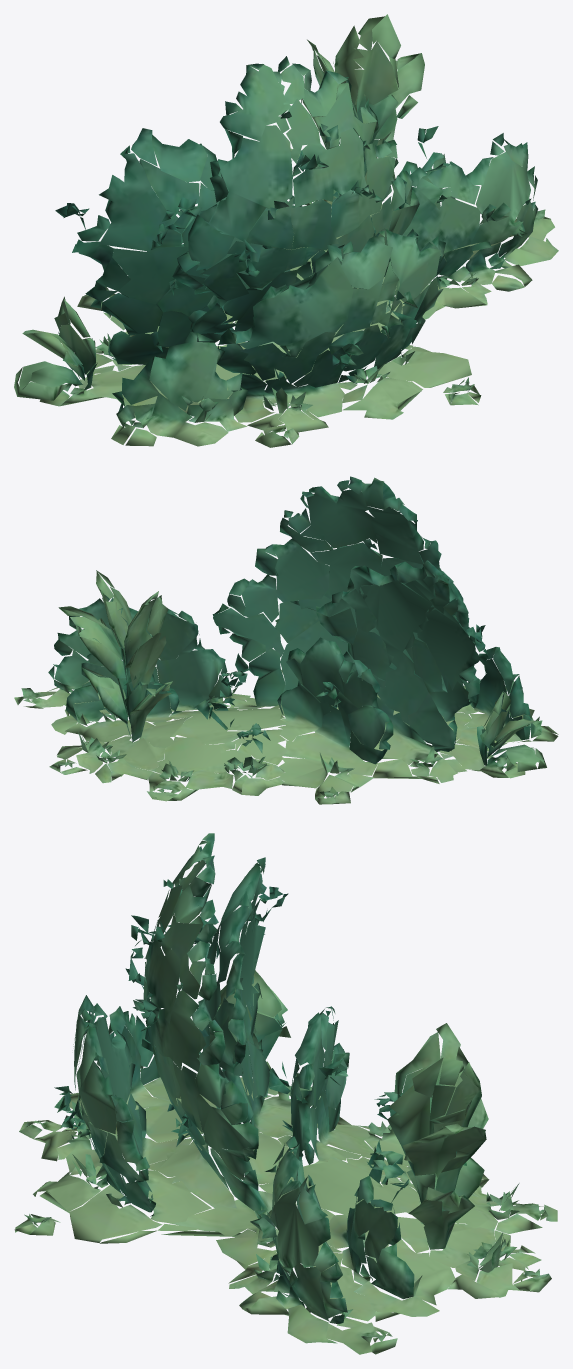
The model's file is green03.glb.
3 renders of one model, top to bottom at view 1: azimuth 30°, elevation 25°; view 2: azimuth 150°, elevation 25°; view 3: azimuth 270°, elevation 25°, orthographic. The views are drawn at different scales.
Visible parts, largest first — view 1: tripo_node_56597a7d-4eb8-473a-b031-829c6f89a341; view 2: tripo_node_56597a7d-4eb8-473a-b031-829c6f89a341; view 3: tripo_node_56597a7d-4eb8-473a-b031-829c6f89a341.
Part boxes in pixels (x1,y1,x2,y2): tripo_node_56597a7d-4eb8-473a-b031-829c6f89a341: (14, 14, 558, 447); tripo_node_56597a7d-4eb8-473a-b031-829c6f89a341: (14, 476, 558, 804); tripo_node_56597a7d-4eb8-473a-b031-829c6f89a341: (14, 833, 557, 1354).
Bounding box in the file's own units: 0.9915 × 0.4947 × 0.7341.
1 material, 1 textured.
